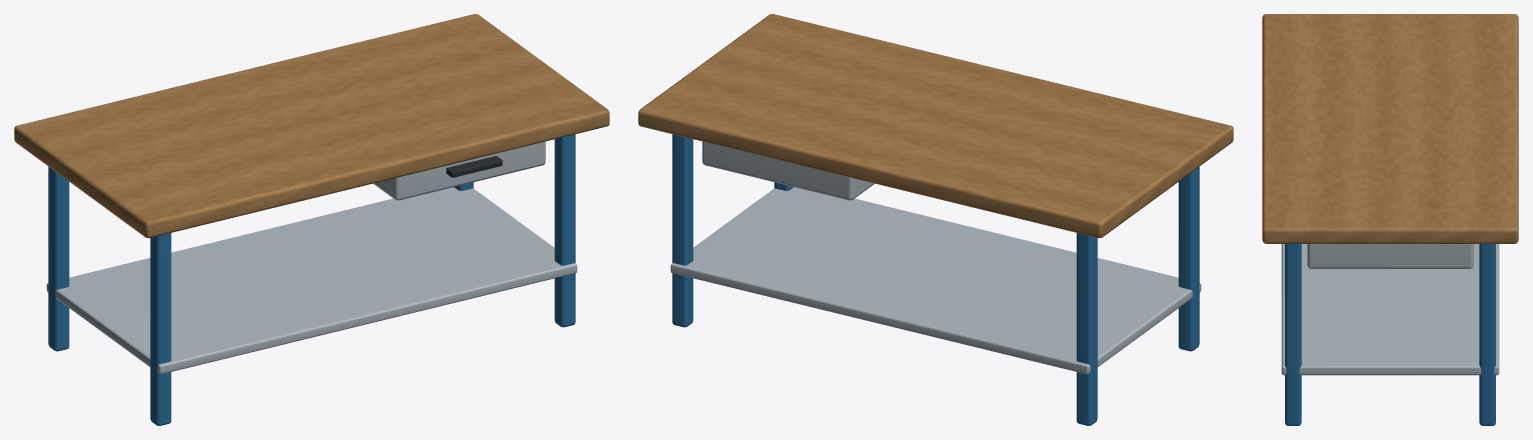
The model's file is worktable.glb.
3 renders of one model, left to right at view 1: azimuth 30°, elevation 25°; view 2: azimuth 150°, elevation 25°; view 3: azimuth 270°, elevation 25°, orthographic. The views are drawn at different scales.
Visible parts, largest first — view 1: Bench_top, Lower_shelf, Leg, Leg.002, Leg.001, Drawer, Drawer_handle; view 2: Bench_top, Lower_shelf, Leg.001, Leg.003, Drawer, Leg; view 3: Bench_top, Lower_shelf, Drawer, Leg.002, Leg.003.
Boxes of the visible parts, x1,y1,x2,y2 form: Bench_top: [14, 14, 609, 238]; Lower_shelf: [46, 187, 577, 374]; Leg: [150, 233, 171, 425]; Leg.002: [554, 134, 575, 327]; Leg.001: [48, 166, 69, 351]; Drawer: [373, 141, 545, 200]; Drawer_handle: [446, 156, 502, 177]; Bench_top: [638, 14, 1233, 238]; Lower_shelf: [670, 187, 1201, 374]; Leg.001: [1076, 233, 1097, 425]; Leg.003: [672, 134, 693, 327]; Drawer: [702, 141, 874, 200]; Leg: [1178, 166, 1199, 351]; Bench_top: [1262, 14, 1518, 243]; Lower_shelf: [1281, 244, 1499, 375]; Drawer: [1307, 244, 1473, 268]; Leg.002: [1285, 244, 1301, 425]; Leg.003: [1479, 244, 1495, 425].
Size of the model in its own units: 2 by 0.9 by 1.
Materials: 4 (1 with a texture image).
